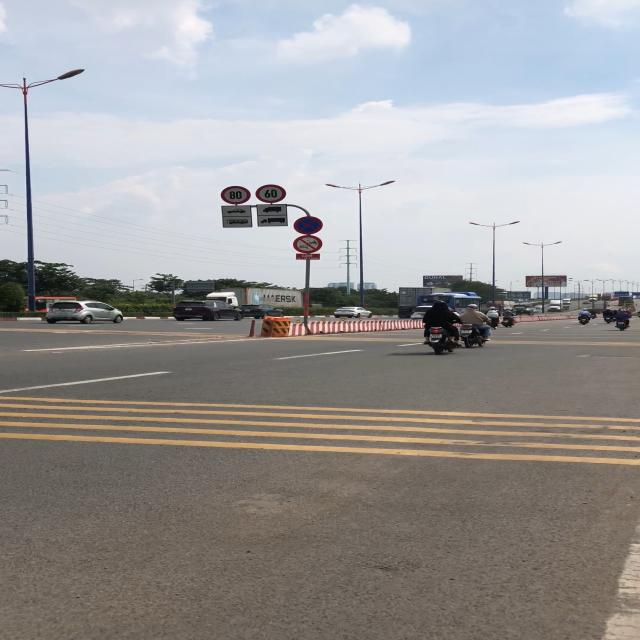Bien bao cam dung xe va do xe: (292, 215, 324, 235)
Bien bao toc do toi da cho phep: (254, 183, 288, 203), (220, 184, 251, 205)
